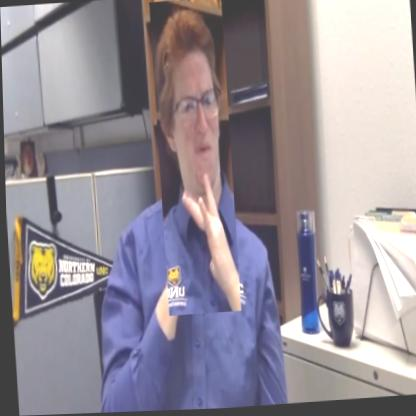Talk: (150, 0, 240, 317)
